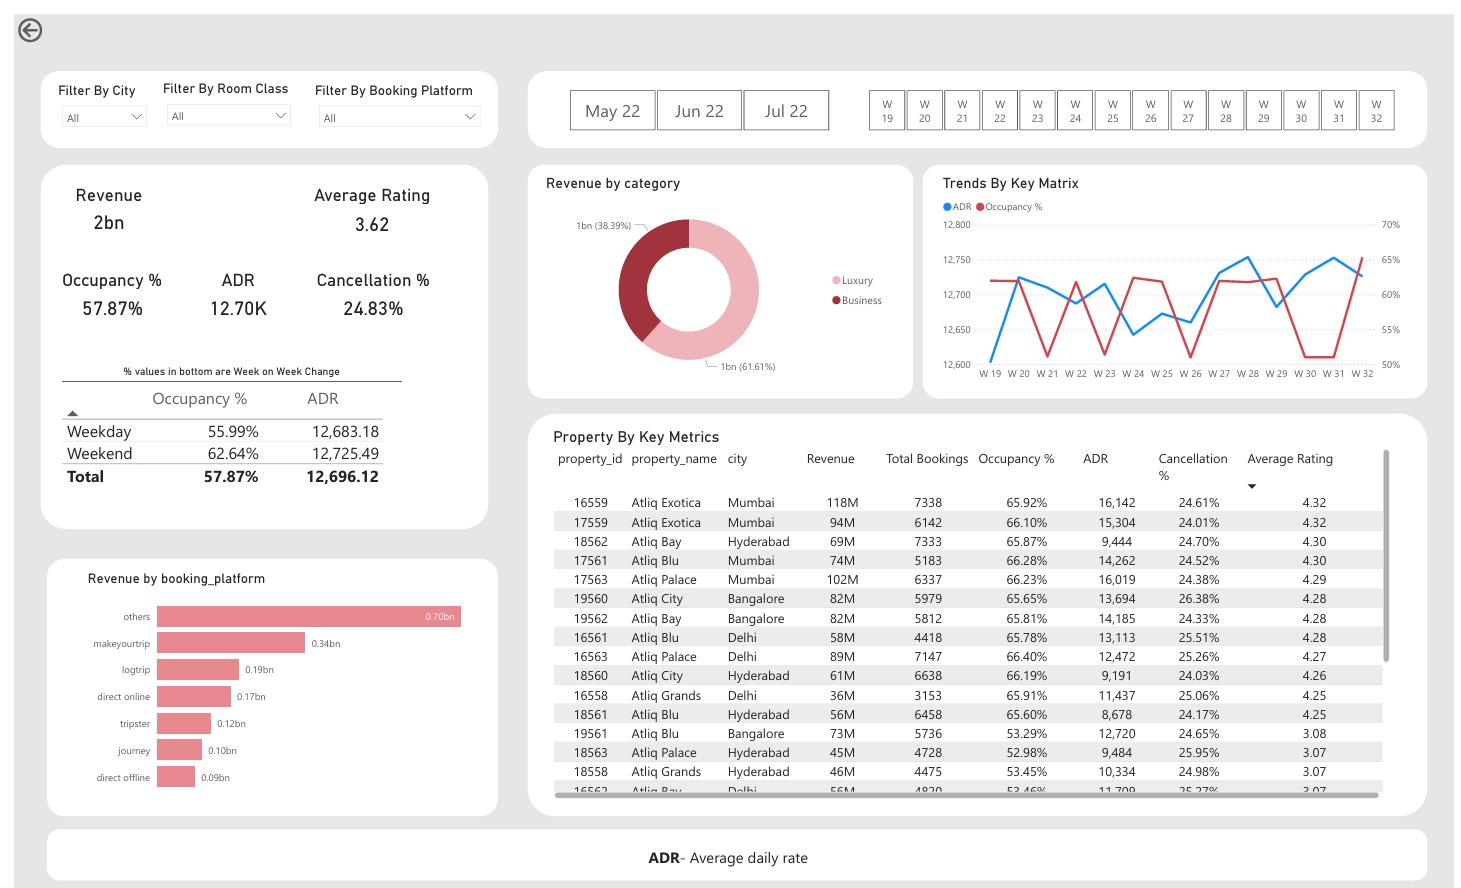

Layout of this report page (visuals, bound fields, positions):
{"tool":"powerbi","page":{"name":"Hospitality Domain","canvas":[1800,1100],"ordinal":0},"visuals":[{"type":"shape","box":[641.9,499,1125.5,502.8],"z":0},{"type":"shape","box":[40.8,680.2,564,321.6],"z":1000},{"type":"shape","box":[1135.7,187.6,631.7,292.2],"z":2000},{"type":"shape","box":[641.9,187.6,482.4,292.2],"z":3000},{"type":"shape","box":[33.2,187.6,560.2,455.6],"z":4000},{"type":"shape","box":[641.9,71.5,1125.5,95.7],"z":5000},{"type":"shape","box":[33.2,71.5,571.7,95.7],"z":6000},{"type":"tableEx","title":"Property By Key Metrics","fields":{"Values":["dim_hotels.property_id","dim_hotels.property_name","dim_hotels.city","Measure.Revenue","Measure.Total Bookings","Measure.Occupancy %","Measure.ADR","Measure.Cancellation %","Measure.Average Rating"]},"box":[668.7,515.5,1056.6,469.6],"z":7000},{"type":"actionButton","box":[0,0,100,40],"z":8000},{"type":"slicer","title":"Filter By City","fields":{"Values":["dim_hotels.city"]},"box":[49.8,85.5,126.3,66.4],"z":9000},{"type":"slicer","fields":{"Values":["dim_date.mmm yy"]},"box":[668.7,88.1,373.9,63.8],"z":10000},{"type":"slicer","fields":{"Values":["dim_date.week no"]},"box":[1042.6,88.1,707,63.8],"z":11000},{"type":"card","title":"Revenue","fields":{"Values":["Measure.Revenue"]},"box":[56.1,213.1,125.1,67.6],"z":12000},{"type":"donutChart","fields":{"Category":["dim_hotels.category"],"Y":["Measure.Revenue"]},"box":[659.7,200.3,440.3,266.7],"z":13000},{"type":"card","title":"Average Rating","fields":{"Values":["Measure.Average Rating"]},"box":[367.5,213.1,159.5,72.7],"z":15000},{"type":"card","title":"ADR","fields":{"Values":["Measure.ADR"]},"box":[222,319,116.1,70.2],"z":16000},{"type":"card","title":"Occupancy %","fields":{"Values":["Measure.Occupancy %"]},"box":[54.9,319,135.3,70.2],"z":17000},{"type":"card","title":"Cancellation %","fields":{"Values":["Measure.Cancellation %"]},"box":[371.3,319,155.7,70.2],"z":18000},{"type":"lineChart","title":"Trends By Key Matrix","fields":{"Category":["dim_date.mmm yy.Variation.Date Hierarchy.Month","dim_date.week no"],"Y":["Measure.ADR"],"Y2":["Measure.Occupancy %"]},"box":[1156.1,200.3,581.9,266.7],"z":19000},{"type":"clusteredBarChart","fields":{"Category":["fact_bookings.booking_platform"],"Y":["Measure.Revenue"]},"box":[86.8,694.2,502.8,291],"z":20000},{"type":"tableEx","title":"% values in bottom are Week on Week Change","fields":{"Values":["dim_date.day_type","Measure.Occupancy %","Measure.ADR"]},"box":[54.9,439,433.9,177.4],"z":21000},{"type":"shape","box":[40.8,1018.3,1726.6,63.8],"z":22000},{"type":"textbox","box":[118.7,1034.9,1553,38.3],"z":23000},{"type":"slicer","title":"Filter By Room Class","fields":{"Values":["dim_rooms.room_class"]},"box":[181.2,82.9,174.8,65.1],"z":24000},{"type":"slicer","title":"Filter By Booking Platform","fields":{"Values":["fact_bookings.booking_platform"]},"box":[371.3,85.5,222,62.5],"z":25000}]}

Visuals, with their boxes in screenshot pixels (x1, y1, x2, y2), scaled from the page's 1800x1100 canvas onto the 1461x888 screenshot:
shape: select_region(521, 403, 1435, 809)
shape: select_region(33, 549, 491, 809)
shape: select_region(922, 151, 1435, 387)
shape: select_region(521, 151, 913, 387)
shape: select_region(27, 151, 482, 519)
shape: select_region(521, 58, 1435, 135)
shape: select_region(27, 58, 491, 135)
"Property By Key Metrics" tableEx: select_region(543, 416, 1400, 795)
actionButton: select_region(0, 0, 81, 32)
"Filter By City" slicer: select_region(40, 69, 143, 123)
slicer - dim_date.mmm yy: select_region(543, 71, 846, 123)
slicer - dim_date.week no: select_region(846, 71, 1420, 123)
"Revenue" card: select_region(46, 172, 147, 227)
donutChart - dim_hotels.category x Measure.Revenue: select_region(535, 162, 893, 377)
"Average Rating" card: select_region(298, 172, 428, 231)
"ADR" card: select_region(180, 258, 274, 314)
"Occupancy %" card: select_region(45, 258, 154, 314)
"Cancellation %" card: select_region(301, 258, 428, 314)
"Trends By Key Matrix" lineChart: select_region(938, 162, 1411, 377)
clusteredBarChart - fact_bookings.booking_platform x Measure.Revenue: select_region(70, 560, 479, 795)
"% values in bottom are Week on Week Change" tableEx: select_region(45, 354, 397, 498)
shape: select_region(33, 822, 1435, 874)
textbox: select_region(96, 835, 1357, 866)
"Filter By Room Class" slicer: select_region(147, 67, 289, 119)
"Filter By Booking Platform" slicer: select_region(301, 69, 482, 119)
